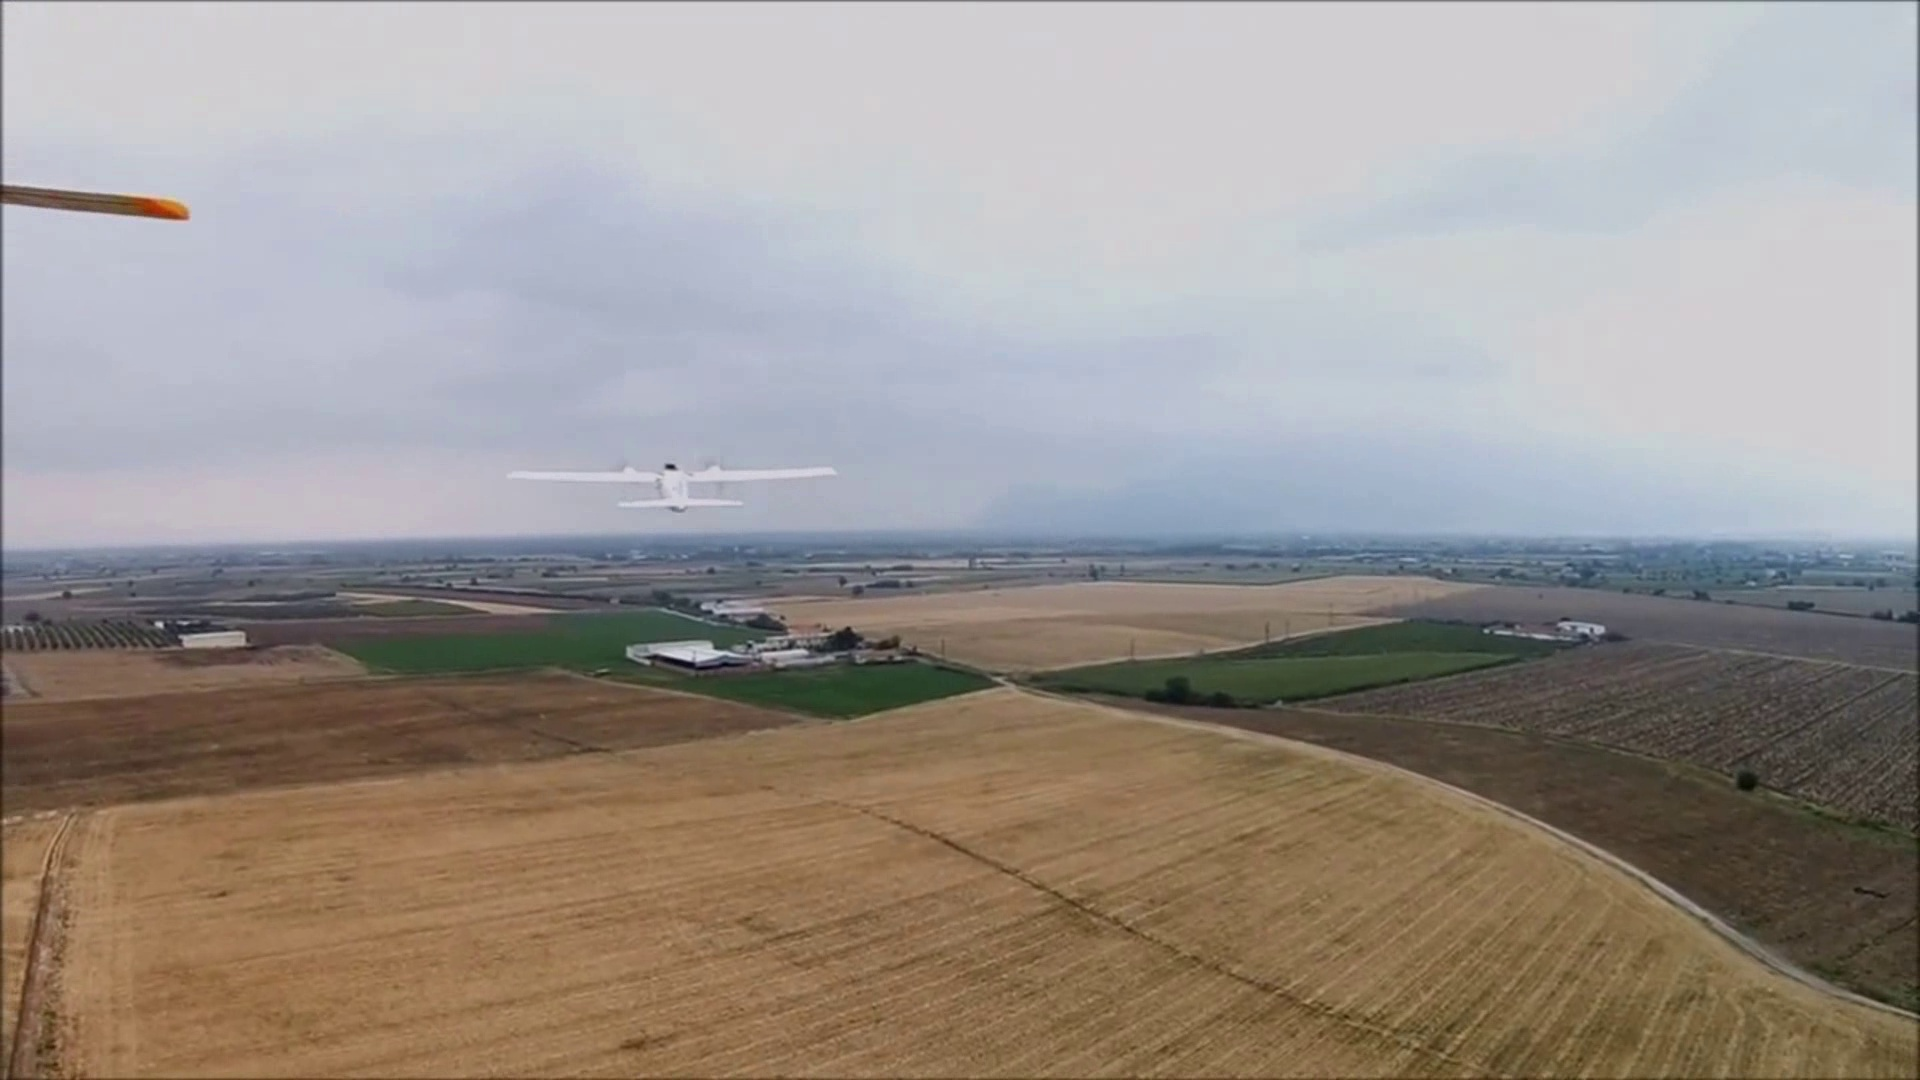airplane: (508, 454, 837, 504)
